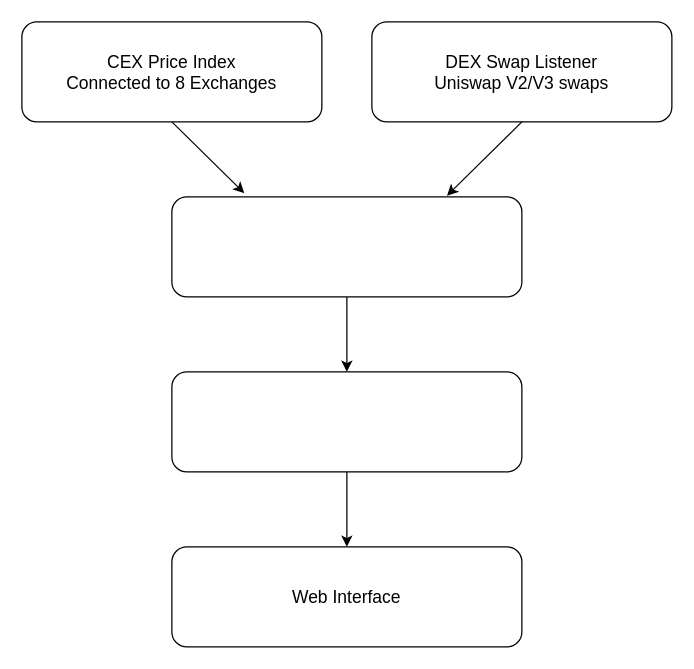
Some shapes in this 694 by 669 pixel diagram are drawn without their labels. Here are the shapes that lost their labels. From the top down, the centre of each, then its label:
At pixel 346 246: "PostgreSQL + TimescaleDB (time-series storage)".
At pixel 346 421: "Analysis Engine (deviation, lead-lag, slippage)".
